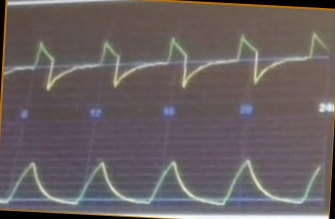Normal Flow: (6, 26, 328, 98)
Normal Volume: (1, 146, 321, 208)
